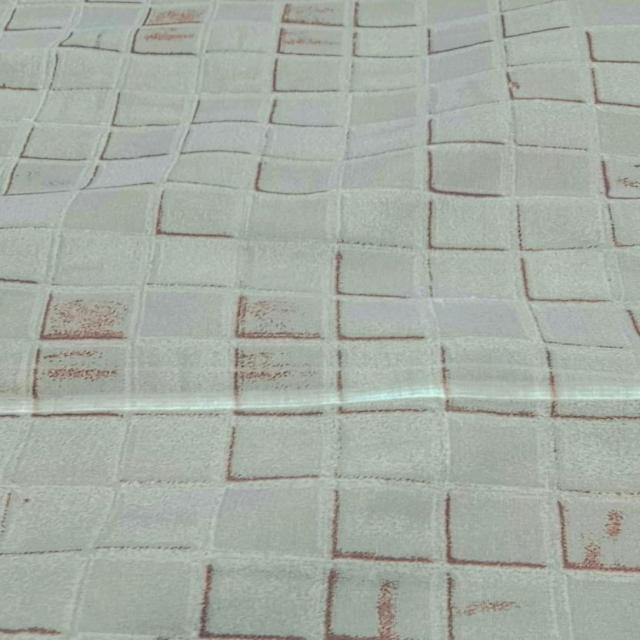selvet: (0, 378, 640, 431)
